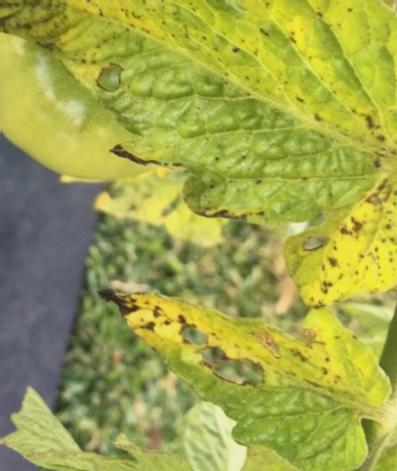Tomato Septoria leaf spot: (0, 0, 397, 301)
